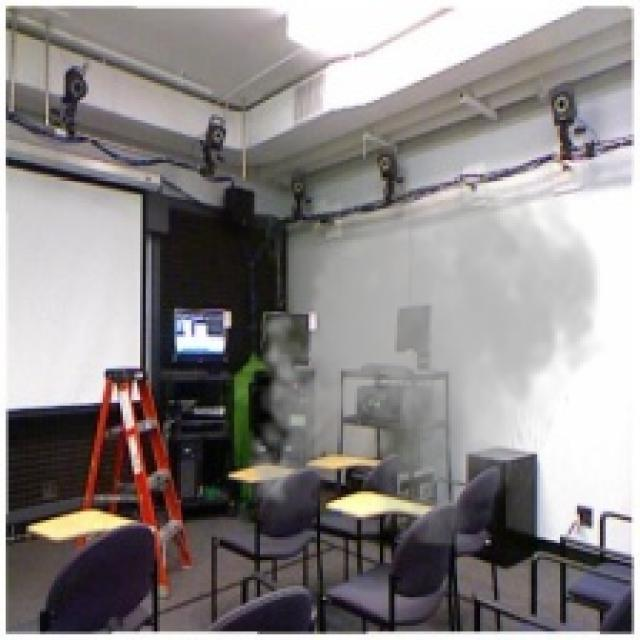Smoke: (237, 168, 609, 548)
